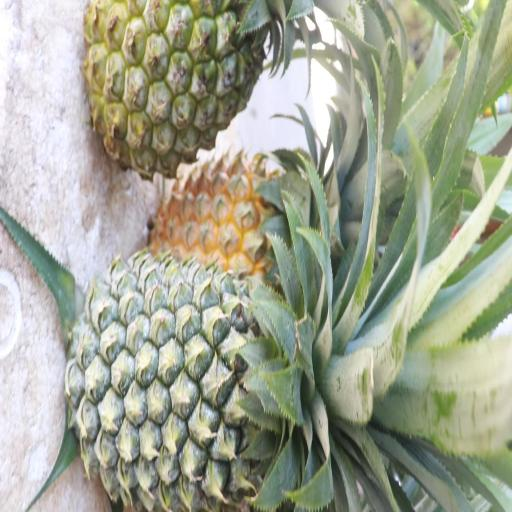------------------------------: (80, 0, 284, 163)
Pineapple - v8 v1: (159, 156, 331, 279)
